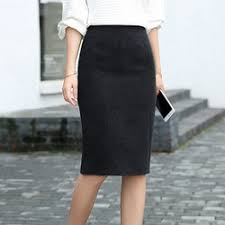F_tailored skirt: (70, 18, 161, 178)
